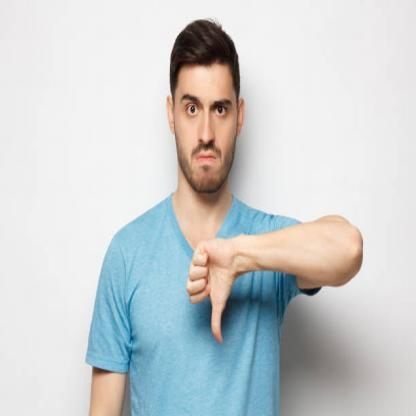thumb_down: (186, 235, 238, 346)
